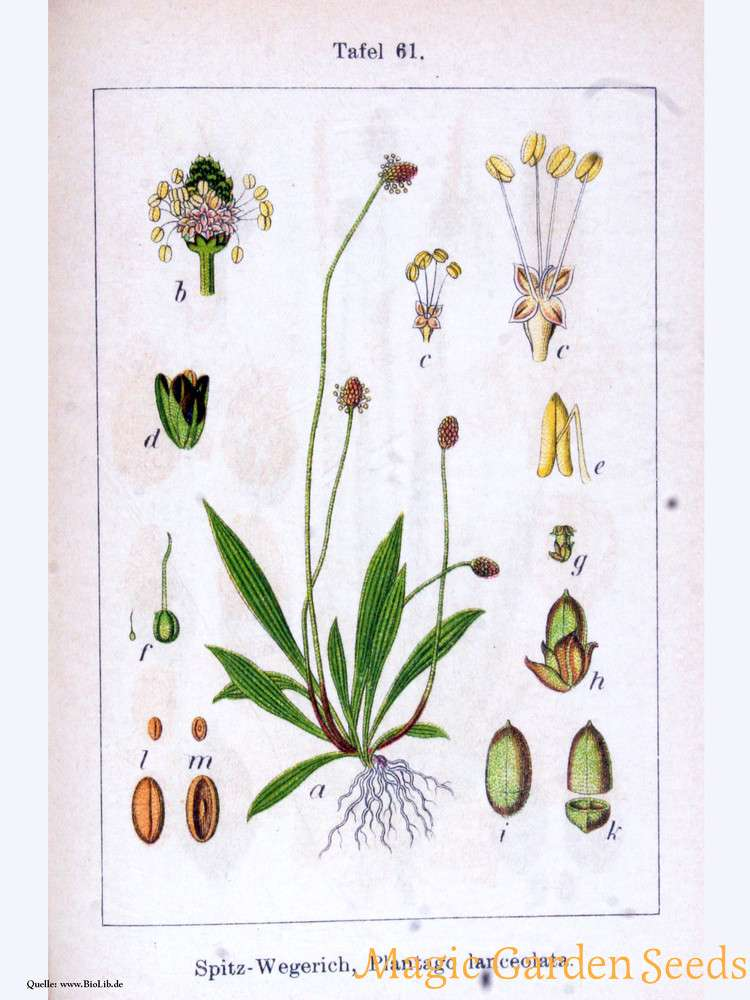buckhorn plantain: (247, 155, 498, 807)
